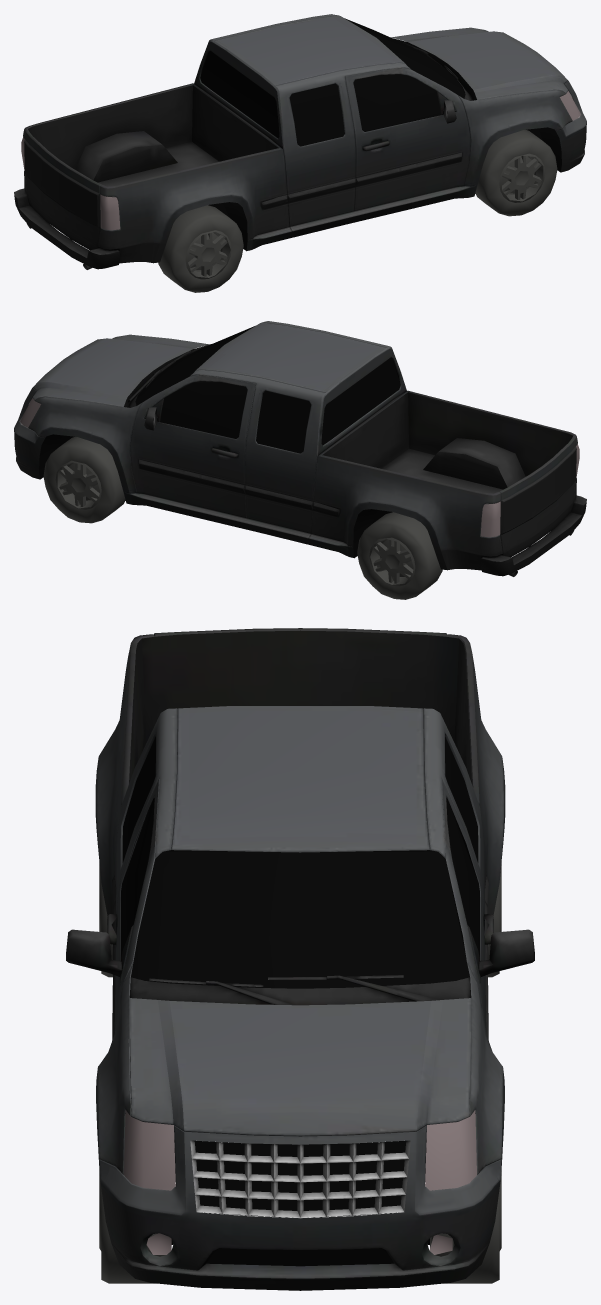
The model's file is pc-pickup-grey.lod0.glb.
3 renders of one model, top to bottom at view 1: azimuth 30°, elevation 25°; view 2: azimuth 150°, elevation 25°; view 3: azimuth 270°, elevation 25°, orthographic. The views are drawn at different scales.
Visible parts, largest first — view 1: Pickup Body_Body_0, Wheel_E_Wheel_0; view 2: Pickup Body_Body_0, Wheel_E_Wheel_0; view 3: Pickup Body_Body_0, Wheel_E_Wheel_0.
Part boxes in pixels (left/top/right/bottom): Pickup Body_Body_0: left=14, top=14, right=586, bottom=269; Wheel_E_Wheel_0: left=21, top=18, right=580, bottom=292; Pickup Body_Body_0: left=14, top=321, right=586, bottom=576; Wheel_E_Wheel_0: left=20, top=326, right=579, bottom=599; Pickup Body_Body_0: left=66, top=628, right=534, bottom=1290; Wheel_E_Wheel_0: left=99, top=737, right=501, bottom=1283.
Bounding box in the file's own units: 5.18 × 1.69 × 2.07.
Materials: 2 (1 with a texture image).
